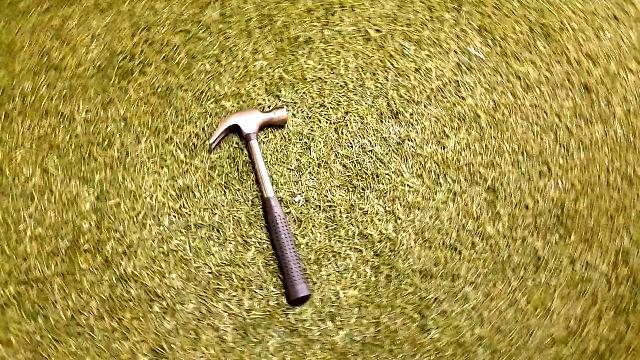hammer: (198, 112, 326, 312)
